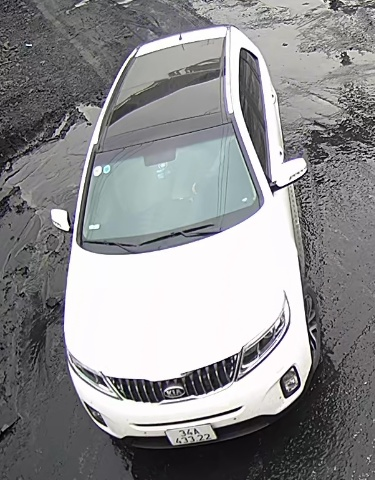vehicle plate: (156, 420, 218, 447)
